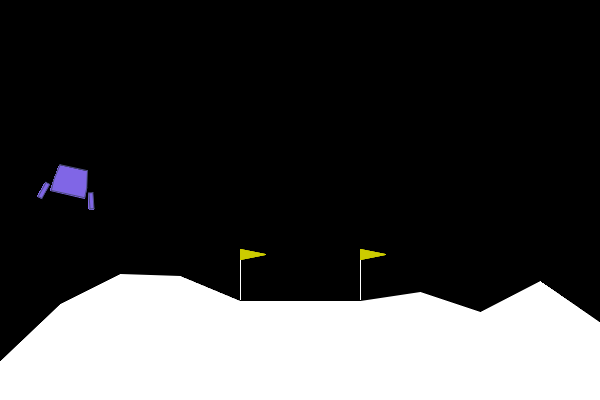lander: (36, 160, 103, 212)
